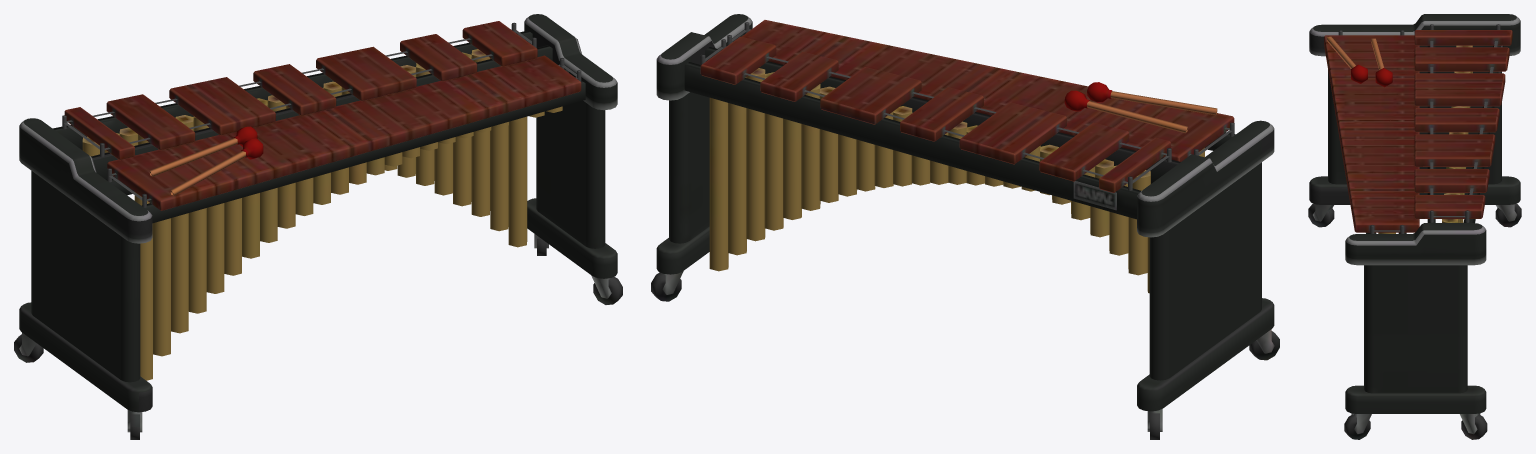
The picture shows the model from 3 angles, left to right: view 1: azimuth 30°, elevation 25°; view 2: azimuth 150°, elevation 25°; view 3: azimuth 270°, elevation 25°; orthographic projection. The views are drawn at different scales.
Bounding box in the file's own units: 19.77 × 9.21 × 8.07.
1 material, 1 textured.
